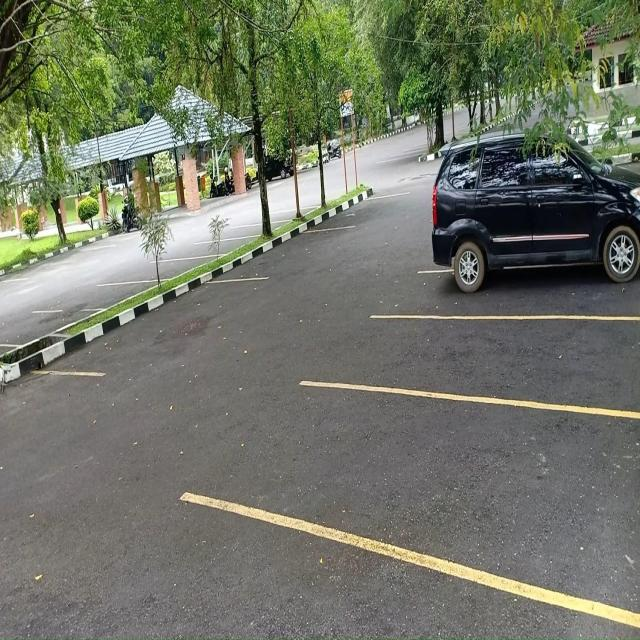empty: (301, 394, 640, 567), (373, 314, 640, 414), (250, 230, 330, 283), (83, 282, 135, 314), (143, 257, 195, 283), (193, 239, 247, 258)
occupied: (428, 191, 640, 320)
